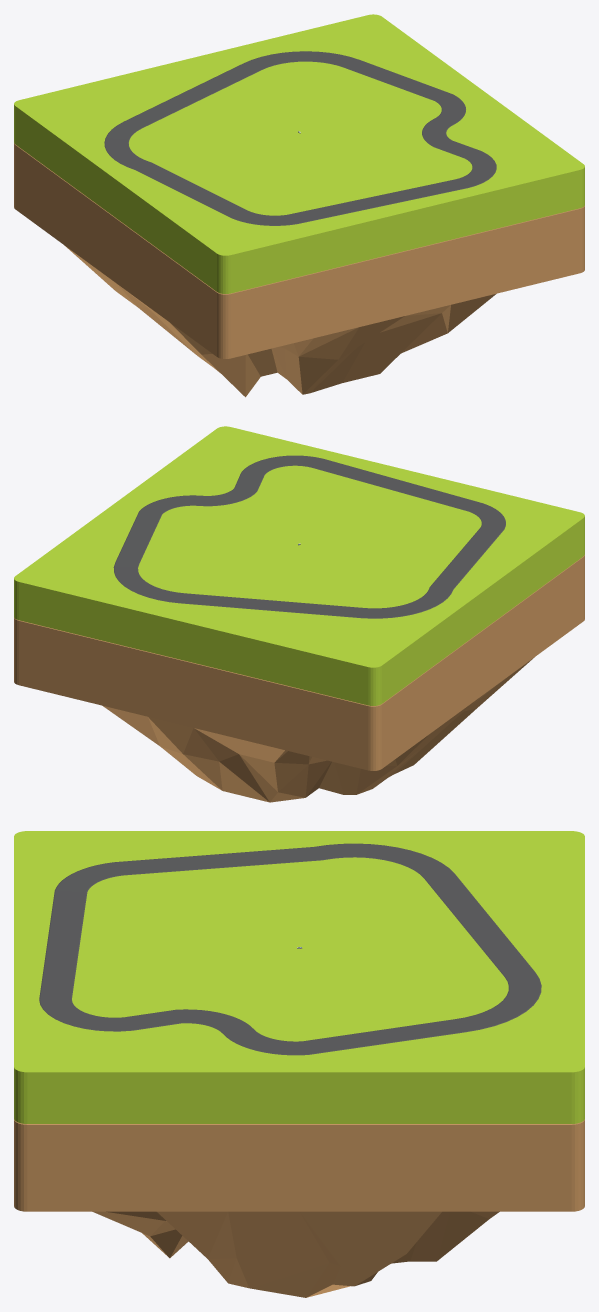
The model's file is newnewTrack.glb.
3 renders of one model, top to bottom at view 1: azimuth 30°, elevation 25°; view 2: azimuth 150°, elevation 25°; view 3: azimuth 270°, elevation 25°, orthographic. The views are drawn at different scales.
Visible parts, largest first — view 1: Grass, Island, outerTrack; view 2: Grass, Island, outerTrack; view 3: Grass, Island, outerTrack.
Part boxes in pixels (bbox=[...]): Grass: bbox=[14, 14, 584, 293]; Island: bbox=[14, 143, 584, 397]; outerTrack: bbox=[104, 51, 496, 225]; Grass: bbox=[14, 426, 584, 705]; Island: bbox=[14, 555, 584, 802]; outerTrack: bbox=[113, 455, 505, 618]; Grass: bbox=[14, 831, 584, 1123]; Island: bbox=[14, 1119, 584, 1297]; outerTrack: bbox=[39, 843, 541, 1055].
Bounding box in the file's own units: 2000 × 1169 × 2000.
5 materials, 1 textured.
